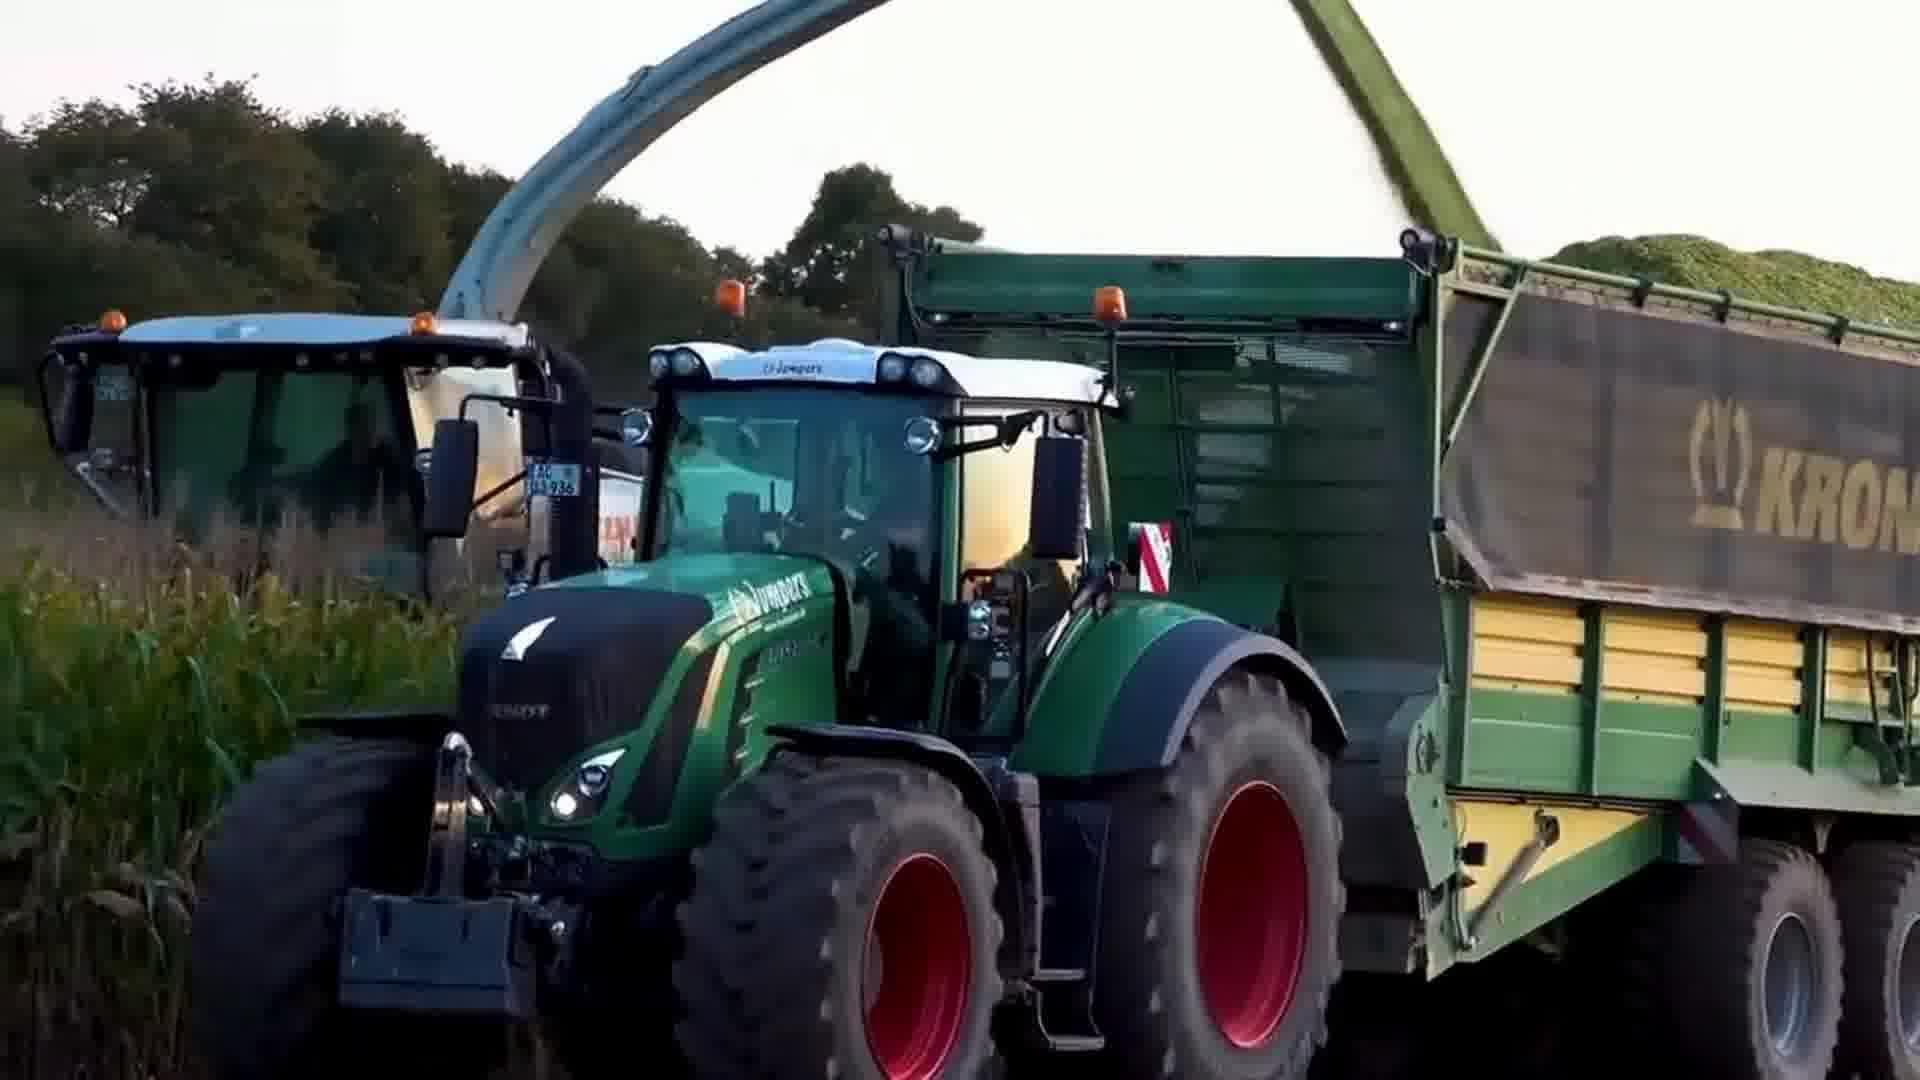combine harvester: (32, 4, 897, 615)
tractor: (181, 276, 1357, 1080)
trailer: (870, 202, 1920, 1080)
